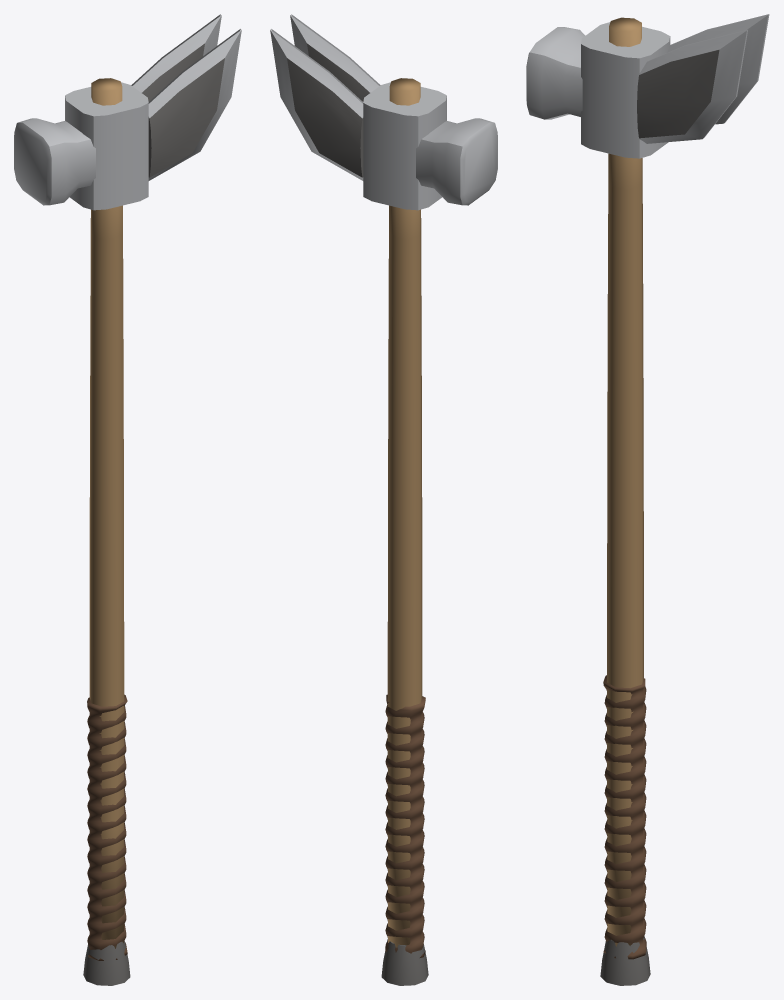
File: dwarven-sphinx-hammer.glb
The picture shows the model from 3 angles, left to right: view 1: azimuth 30°, elevation 25°; view 2: azimuth 150°, elevation 25°; view 3: azimuth 330°, elevation 25°; orthographic projection. The views are drawn at different scales.
Parts seen in each view (by area): view 1: dwarven-sphinx-hammer; view 2: dwarven-sphinx-hammer; view 3: dwarven-sphinx-hammer.
Part boxes in pixels (left/top/right/bottom): dwarven-sphinx-hammer: left=14, top=14, right=241, bottom=985; dwarven-sphinx-hammer: left=270, top=14, right=497, bottom=985; dwarven-sphinx-hammer: left=526, top=14, right=769, bottom=985.
Size of the model in its own units: 0.58 by 2.56 by 0.1908.
